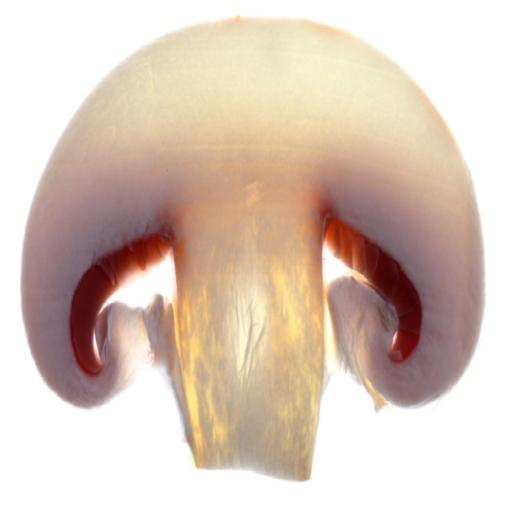Button Mushroom: (21, 13, 486, 485)
